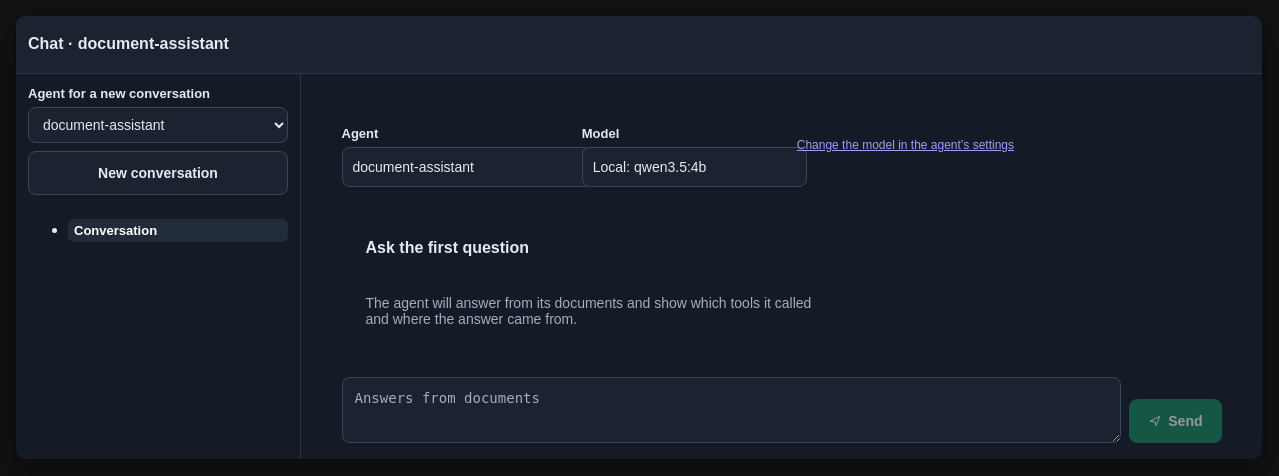
Scenario: Chat › waiting shows the model and seconds but promises no deadline
Expected: the field labelled "Model" is shown, [582, 146, 807, 186]
Type "question" into the text box with placeholder "Answers from documents" at (731, 410), box [342, 376, 1121, 442]
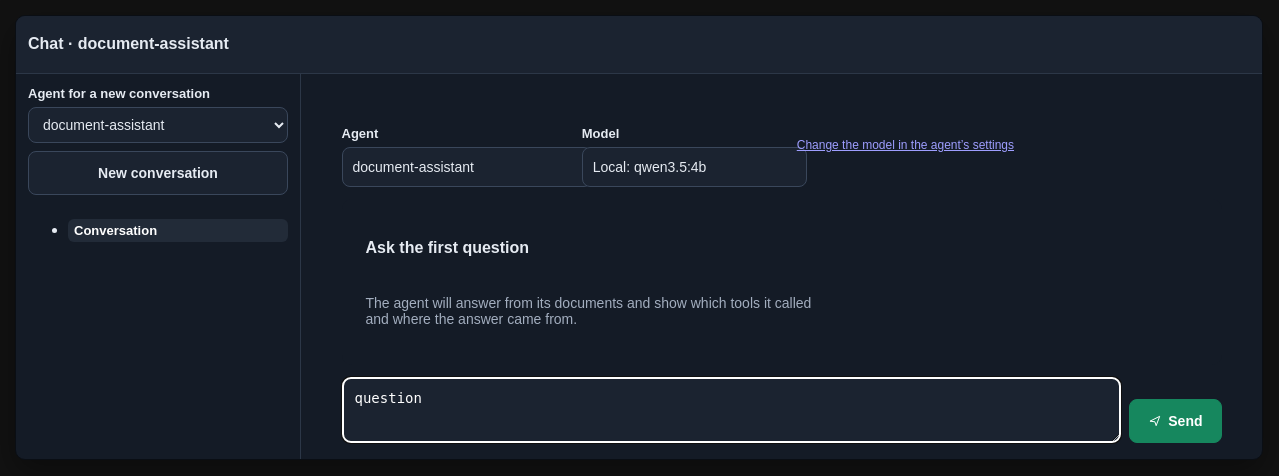
Click the button "Send" at (1175, 420), box [1129, 398, 1222, 442]
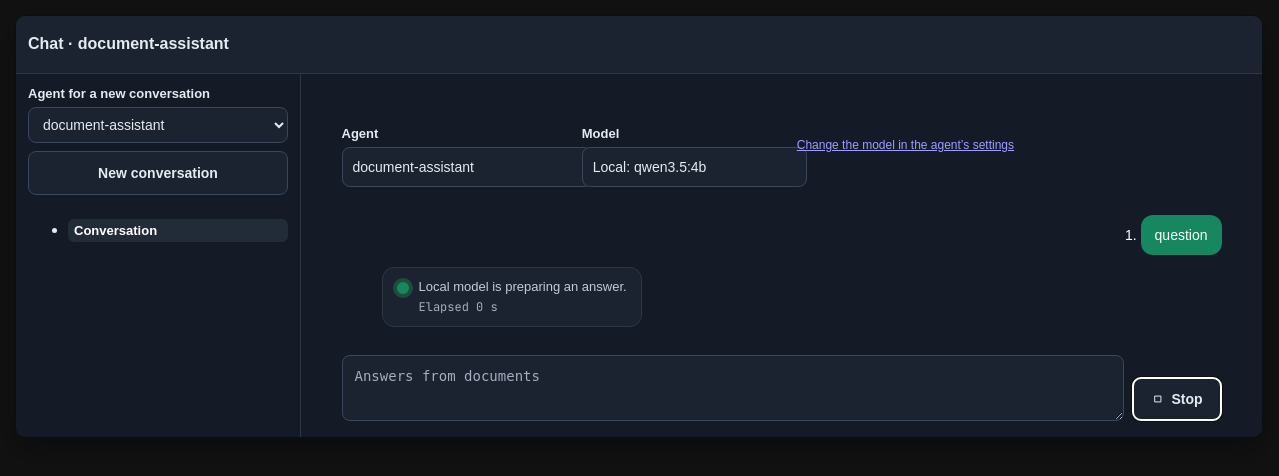
Expected: the message does not show "The first fragment", [396, 278, 627, 316]
Expected: the message shows "Local model is preparing an answer.", [396, 278, 627, 316]
Expected: the message reads "Local model is preparing an answer. Elapsed 0 s", [396, 278, 627, 316]
